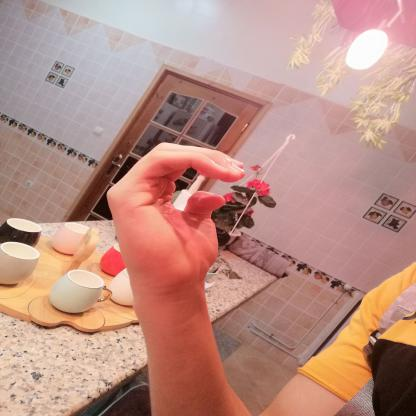JEEM: (92, 132, 262, 299)
